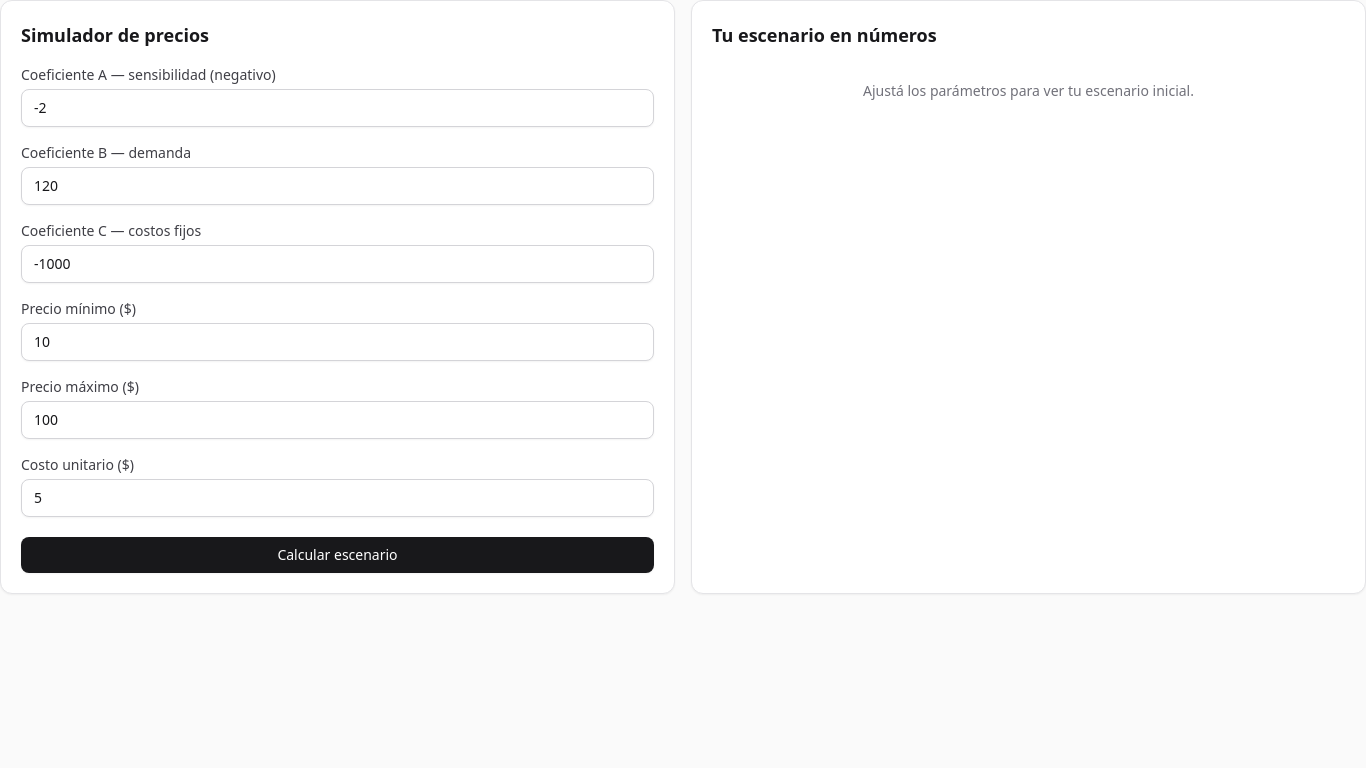
Test: LeadMagnetForm — contrato honesto › clic Calcular con fetch OK (shape honesto) → muestra rango, acción, confianza, acceso y canvas; NO muestra $ 30 suelto
Click the button with test id "lm-calc": point(338, 555) [21, 537, 654, 573]
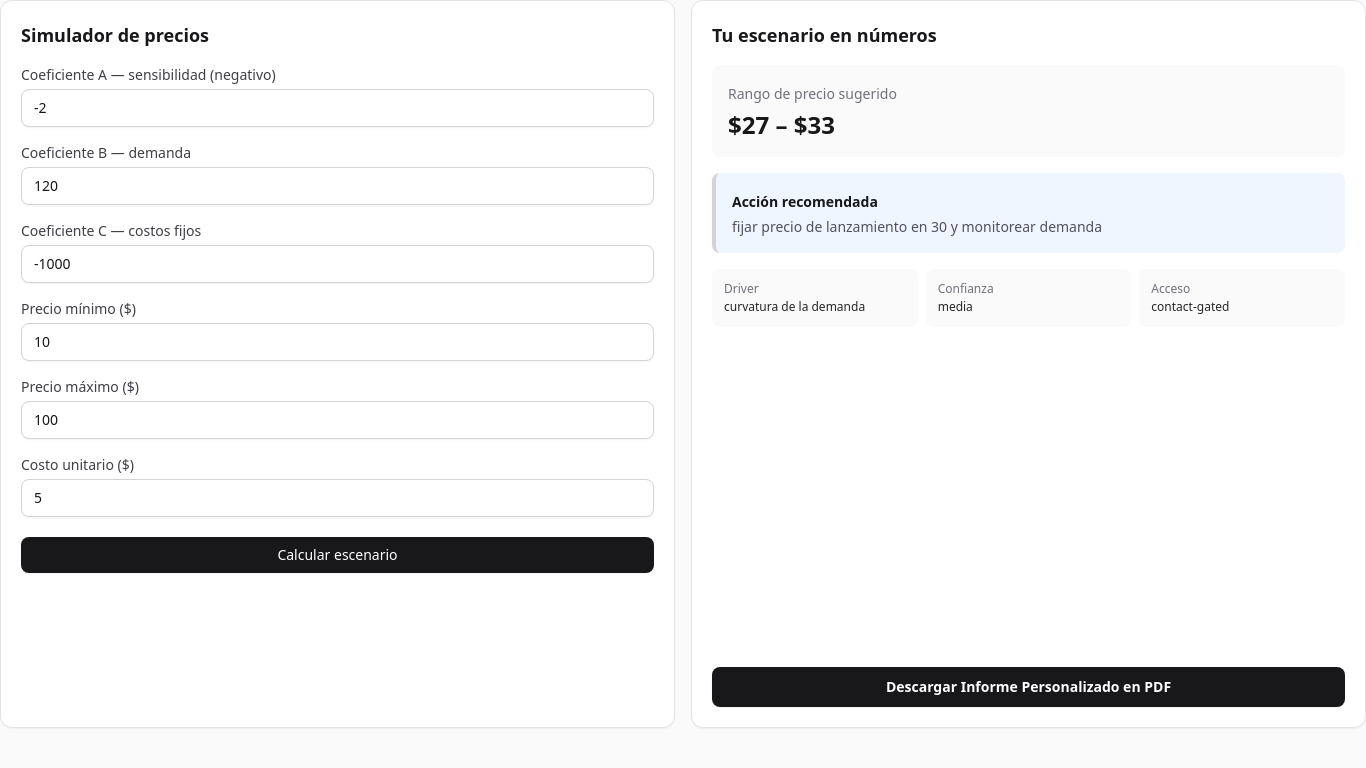
Expected: the text with test id "lm-empty" is gone
Expected: the text with test id "lm-range" shows "27", [742, 108, 769, 141]
Expected: the text with test id "lm-range" shows "33", [807, 108, 835, 141]
